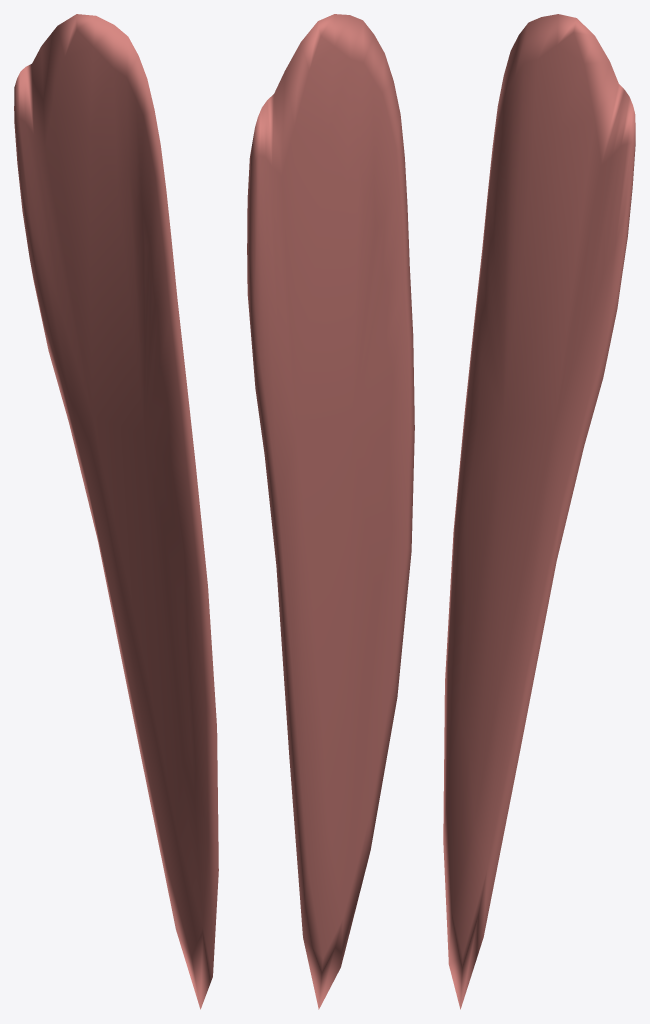
3 views of the same model, side by side, from view 1: azimuth 90°, elevation 25°; view 2: azimuth 150°, elevation 25°; view 3: azimuth 270°, elevation 25° (orthographic). The views are drawn at different scales.
Parts seen in each view (by area): view 1: ZA_1a8d62a851d0c231; view 2: ZA_1a8d62a851d0c231; view 3: ZA_1a8d62a851d0c231.
Part boxes in pixels (left/top/right/bottom): ZA_1a8d62a851d0c231: left=14, top=14, right=218, bottom=1009; ZA_1a8d62a851d0c231: left=247, top=14, right=414, bottom=1009; ZA_1a8d62a851d0c231: left=443, top=14, right=635, bottom=1009.
Bounding box in the file's own units: 0.00368 × 0.0346 × 0.00625.
